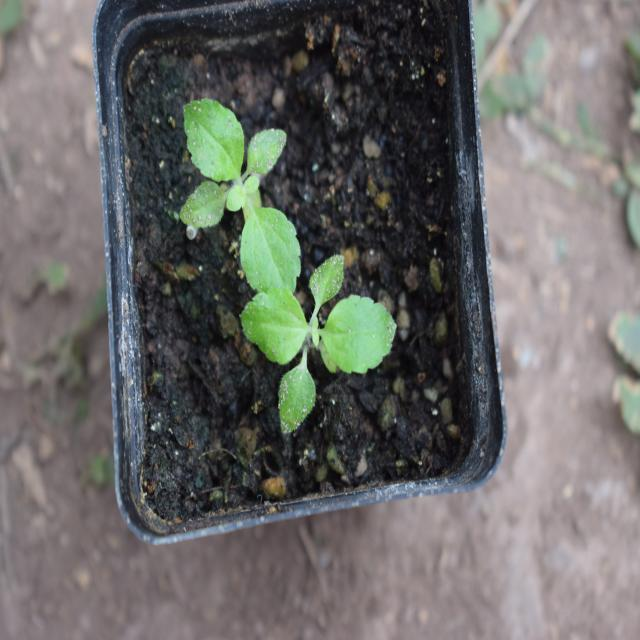billygoat_weed: (252, 240, 394, 441), (170, 92, 304, 288)
